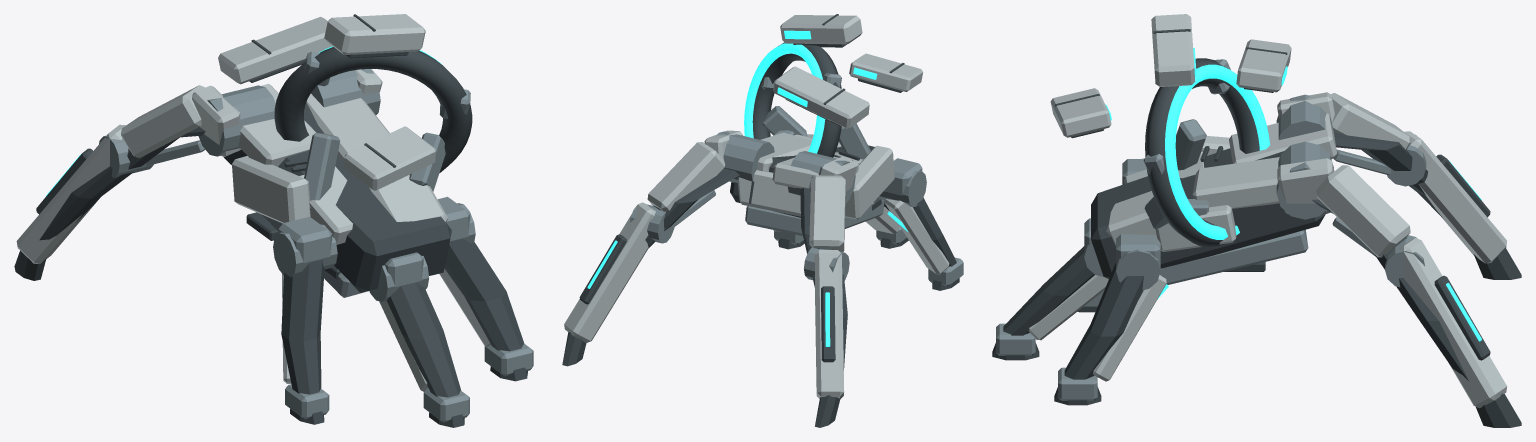
File: hound_blockout_v3.glb
3 views of the same model, side by side, from view 1: azimuth 30°, elevation 25°; view 2: azimuth 150°, elevation 25°; view 3: azimuth 270°, elevation 25° (orthographic). The views are drawn at different scales.
Parts seen in each view (by area): view 1: HOUND_batch_HOUND_shell, HOUND_batch_HOUND_spine, HOUND_batch_HOUND_edge_metal; view 2: HOUND_batch_HOUND_spine, HOUND_batch_HOUND_shell, HOUND_batch_HOUND_edge_metal, HOUND_batch_HOUND_ring_emission; view 3: HOUND_batch_HOUND_spine, HOUND_batch_HOUND_shell, HOUND_batch_HOUND_edge_metal, HOUND_batch_HOUND_ring_emission.
Part boxes in pixels (<box>): HOUND_batch_HOUND_shell: <box>14,14,527,427</box>; HOUND_batch_HOUND_spine: <box>16,14,490,391</box>; HOUND_batch_HOUND_edge_metal: <box>99,51,533,422</box>; HOUND_batch_HOUND_spine: <box>564,15,949,398</box>; HOUND_batch_HOUND_shell: <box>562,14,959,427</box>; HOUND_batch_HOUND_edge_metal: <box>630,66,963,286</box>; HOUND_batch_HOUND_ring_emission: <box>587,30,907,346</box>; HOUND_batch_HOUND_spine: <box>1028,14,1507,408</box>; HOUND_batch_HOUND_shell: <box>992,29,1521,427</box>; HOUND_batch_HOUND_edge_metal: <box>996,59,1426,400</box>; HOUND_batch_HOUND_ring_emission: <box>1105,48,1481,341</box>.
Size of the model in its own units: 2.43 by 2.28 by 3.33.
